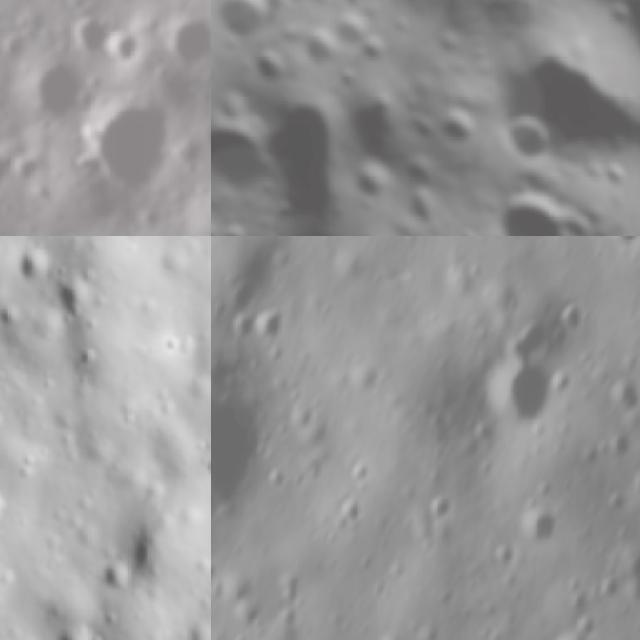crater: (462, 5, 640, 222), (235, 77, 395, 236), (211, 92, 287, 215), (211, 360, 269, 519), (89, 95, 178, 196), (474, 171, 595, 236), (582, 0, 640, 121), (477, 367, 564, 438), (18, 55, 95, 133), (492, 104, 566, 180), (211, 0, 286, 56), (342, 151, 403, 214), (494, 316, 556, 366), (161, 10, 211, 70), (398, 182, 452, 234), (434, 102, 486, 154), (326, 4, 376, 55), (65, 15, 116, 64), (592, 154, 640, 205), (349, 26, 398, 75), (222, 268, 270, 316), (518, 505, 565, 549), (551, 200, 608, 236), (104, 28, 143, 73), (6, 247, 49, 287), (91, 559, 129, 603), (55, 273, 92, 318), (253, 302, 290, 346), (251, 0, 308, 28), (331, 494, 372, 531), (345, 360, 385, 396), (280, 399, 316, 438), (328, 59, 365, 96), (607, 376, 640, 414), (484, 541, 520, 575), (562, 298, 593, 336), (426, 490, 458, 526), (227, 315, 260, 349), (606, 430, 637, 463), (347, 456, 378, 489), (260, 462, 293, 492), (211, 74, 229, 127), (0, 145, 19, 189), (36, 626, 92, 640), (333, 0, 376, 17), (598, 236, 640, 250), (365, 627, 409, 640), (555, 627, 597, 640)
